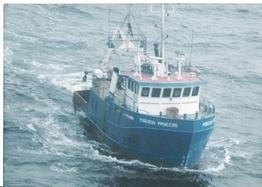otherboat: (69, 1, 217, 169)
